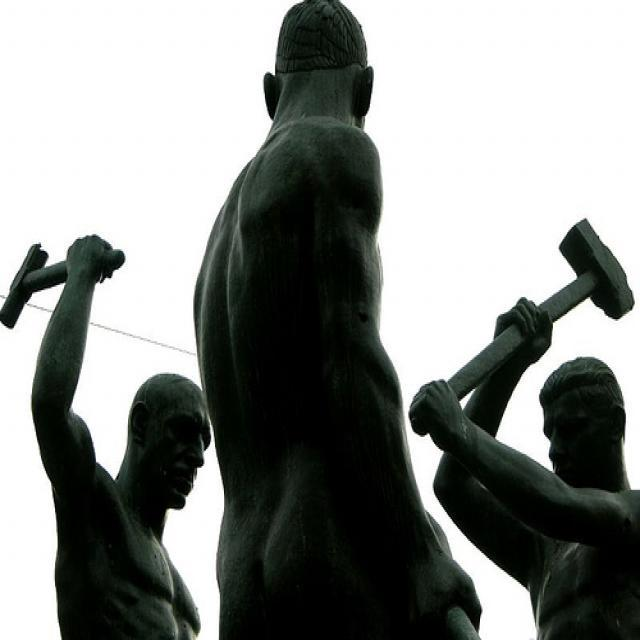hammer: (412, 211, 638, 445), (0, 230, 132, 336)
